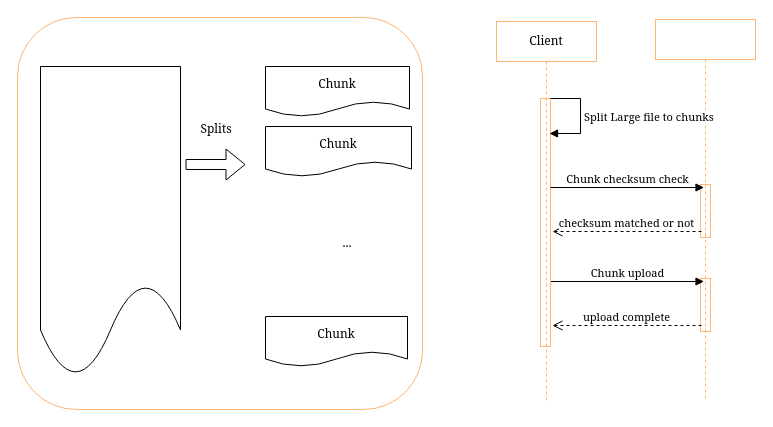
This 773x427 diagram has some shape labels left out. The centre of each missing label's shape, as x and y in pixels:
Large File: the point at 110,221
Server: the point at 705,208
